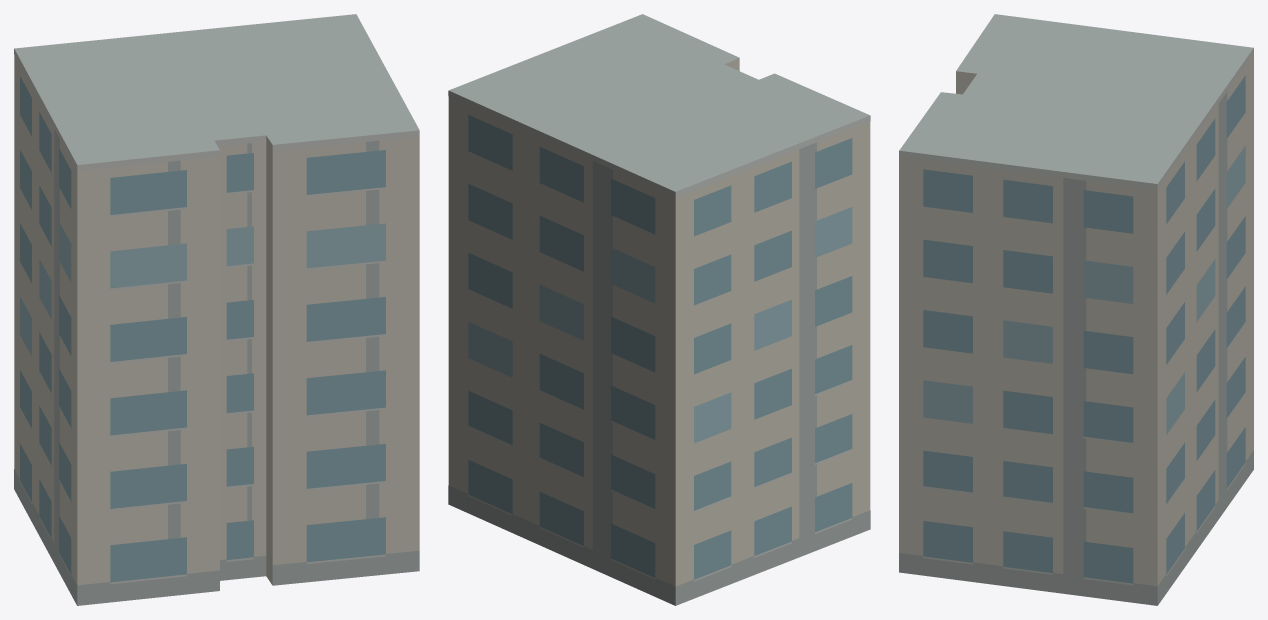
File: survey-upis-32802467.glb
3 renders of one model, left to right at view 1: azimuth 30°, elevation 25°; view 2: azimuth 150°, elevation 25°; view 3: azimuth 270°, elevation 25°, orthographic. The views are drawn at different scales.
Parts seen in each view (by area): view 1: survey-upis-32802467.tmp; view 2: survey-upis-32802467.tmp; view 3: survey-upis-32802467.tmp.
Boxes of the visible parts, x1,y1,x2,y2 form: survey-upis-32802467.tmp: [14, 14, 419, 605]; survey-upis-32802467.tmp: [448, 14, 870, 605]; survey-upis-32802467.tmp: [899, 14, 1253, 605].
Bounding box in the file's own units: 14.97 × 17.3 × 13.19.
